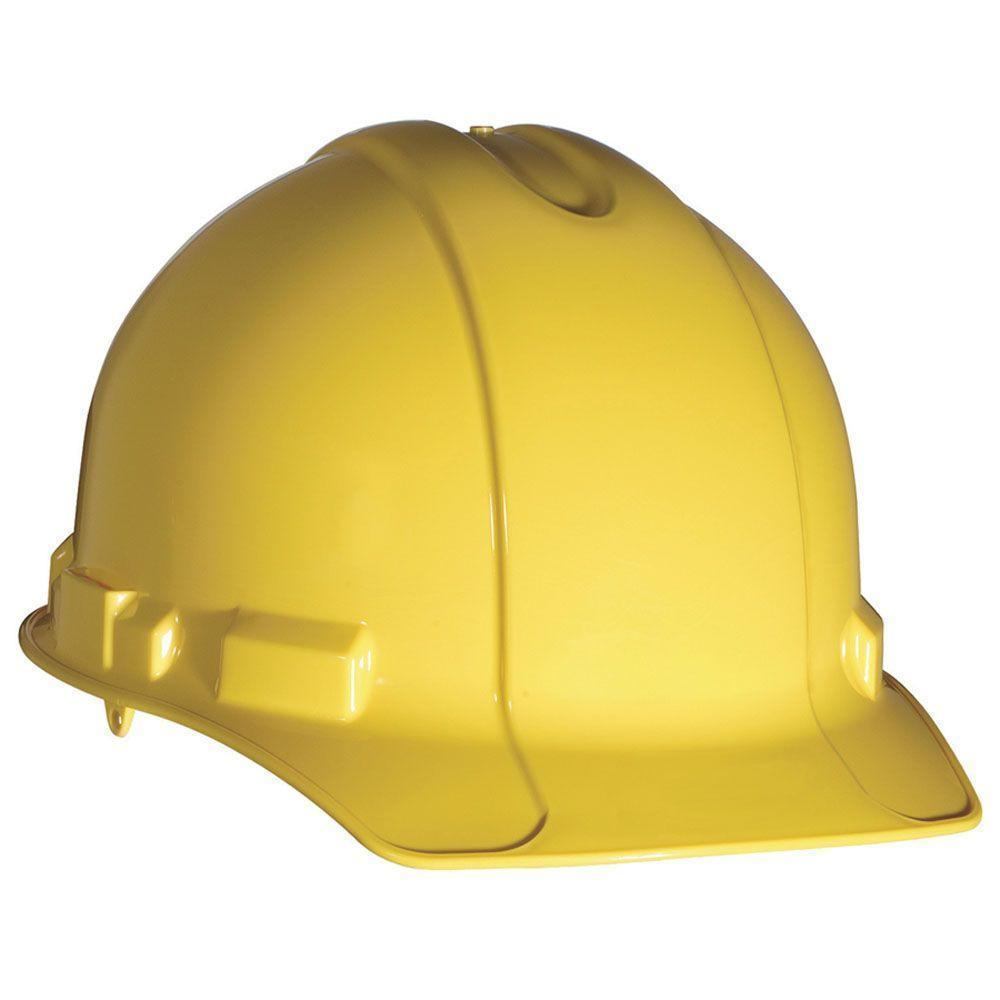helmet: (10, 107, 987, 881)
